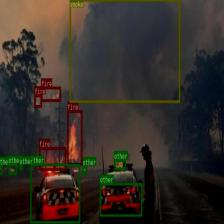fire: (67, 110, 82, 164), (39, 147, 66, 170), (41, 87, 61, 101), (34, 95, 42, 107)
smoke: (69, 0, 180, 102)
